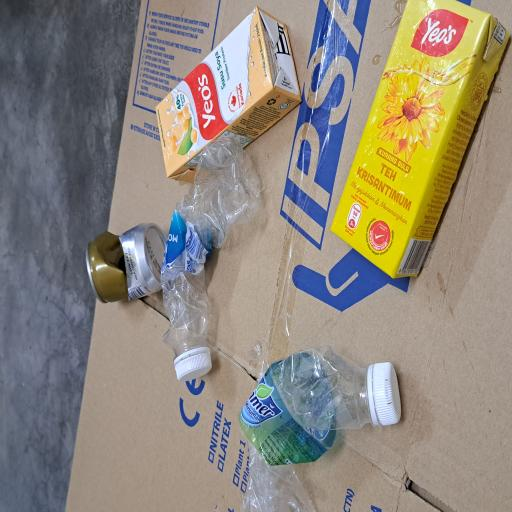can: (154, 113, 216, 223)
cardboard: (0, 84, 384, 512)
drink carton: (249, 208, 379, 404), (175, 439, 384, 512)
plastic bottle: (118, 212, 276, 352), (0, 318, 125, 494)
plastic bottle cap: (98, 234, 122, 282), (64, 494, 113, 512)
